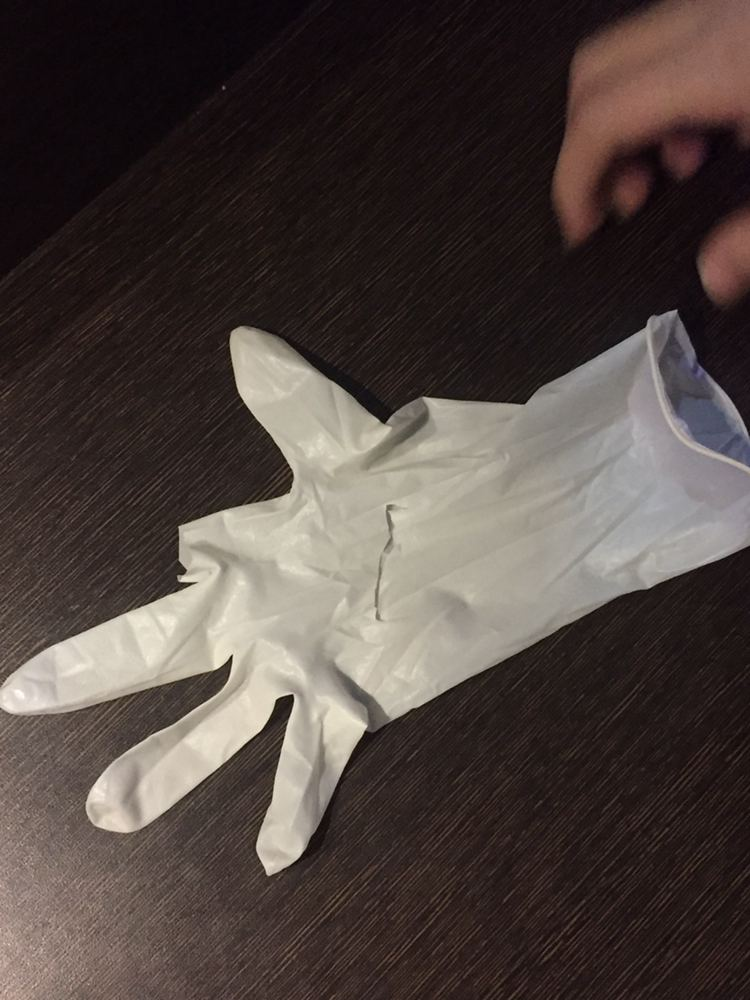defected: (3, 343, 749, 872)
